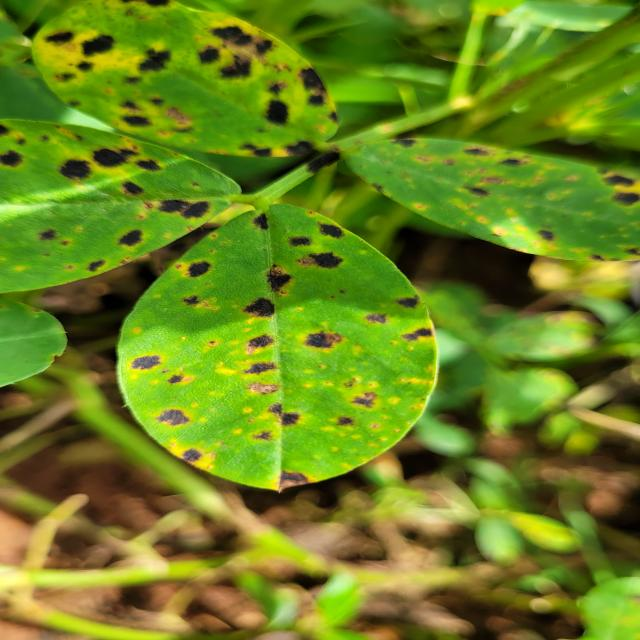Ground nut_tikka leaf spot: (125, 205, 442, 494), (37, 0, 346, 157), (364, 127, 640, 262)
